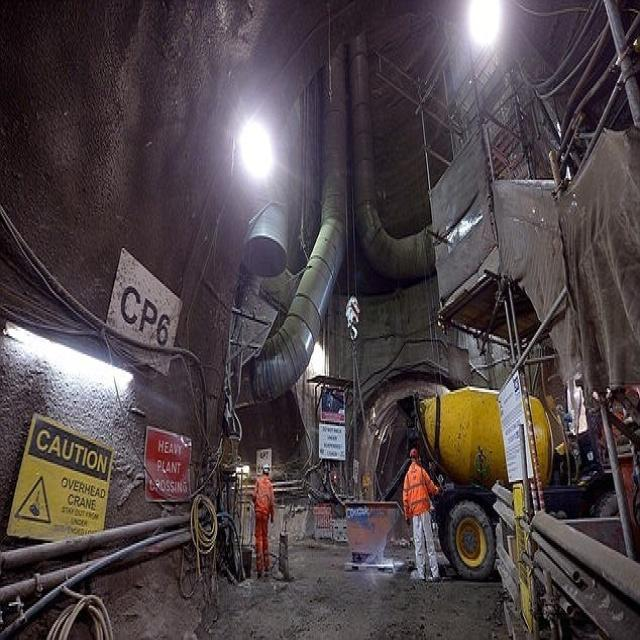helmet: (408, 593, 418, 620), (260, 614, 270, 638)
vest: (403, 621, 434, 640)
